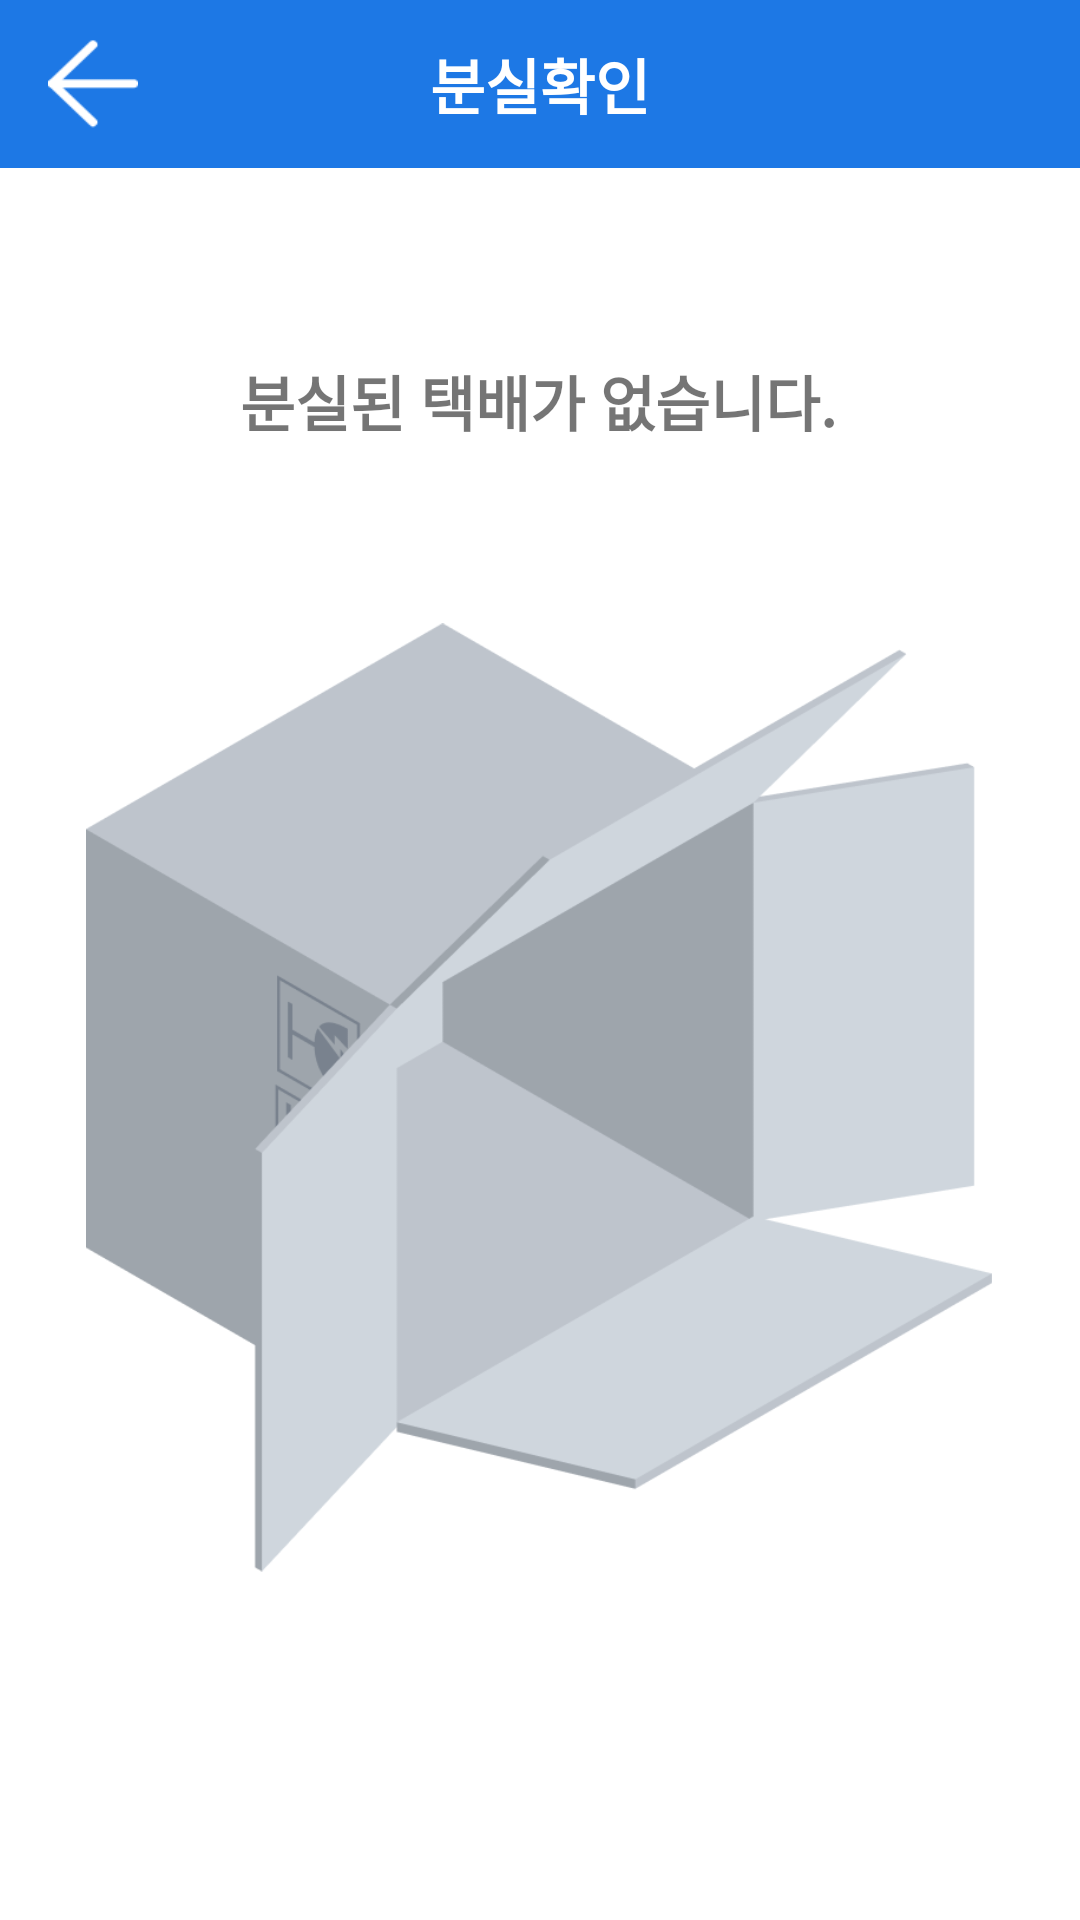

Named icons in this screenshot (1080×1920) and their centers, [x,y]:
arrow: [93,84]
